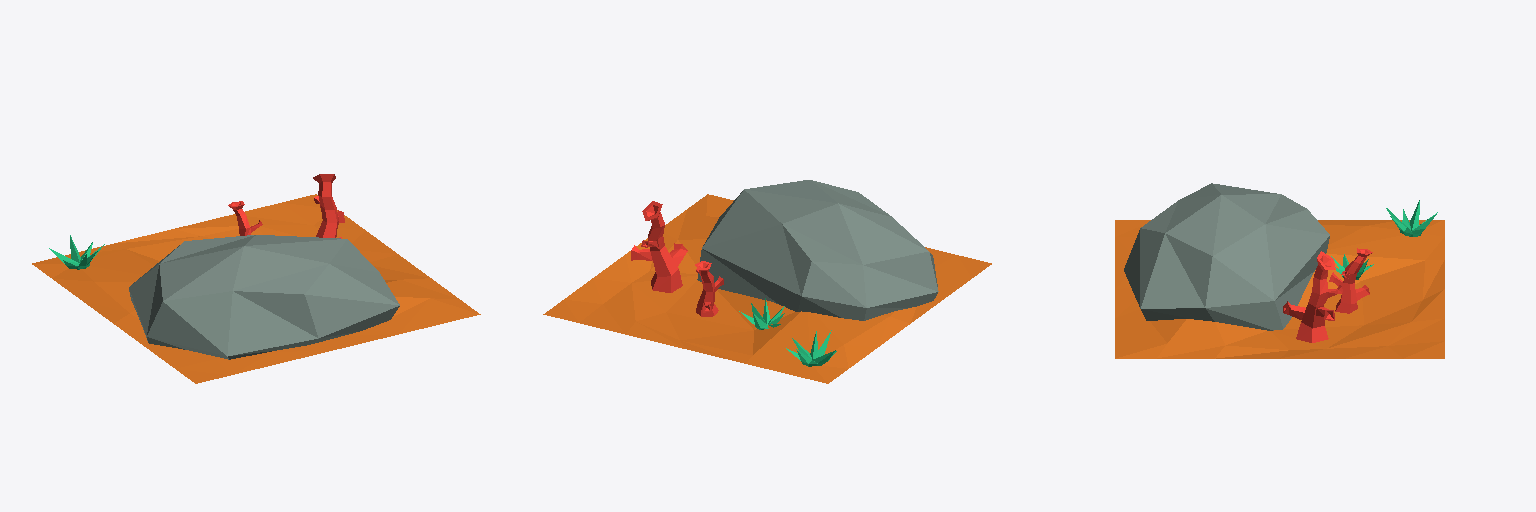
3 views of the same model, side by side, from view 1: azimuth 30°, elevation 25°; view 2: azimuth 150°, elevation 25°; view 3: azimuth 270°, elevation 25° (orthographic).
Visible parts, largest first — view 1: Plane.002; view 2: Plane.002; view 3: Plane.002.
Boxes of the visible parts, box(x1,y1,x2,y2) form: Plane.002: box(32, 174, 480, 383); Plane.002: box(543, 180, 991, 383); Plane.002: box(1115, 183, 1444, 358).
Bounding box in the file's own units: 2 × 0.6183 × 2.
1 materials, 1 textured.